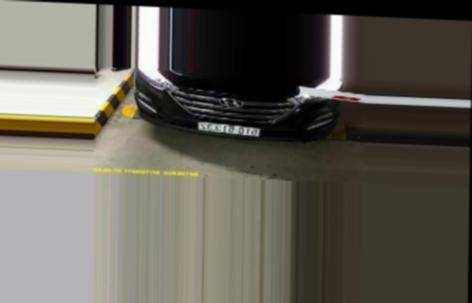License_Plate: (198, 120, 261, 137)
